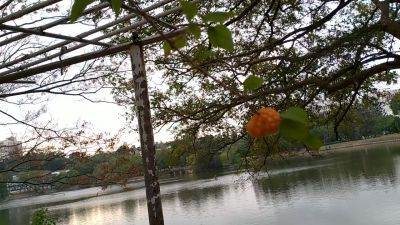eggs: (246, 106, 282, 139)
